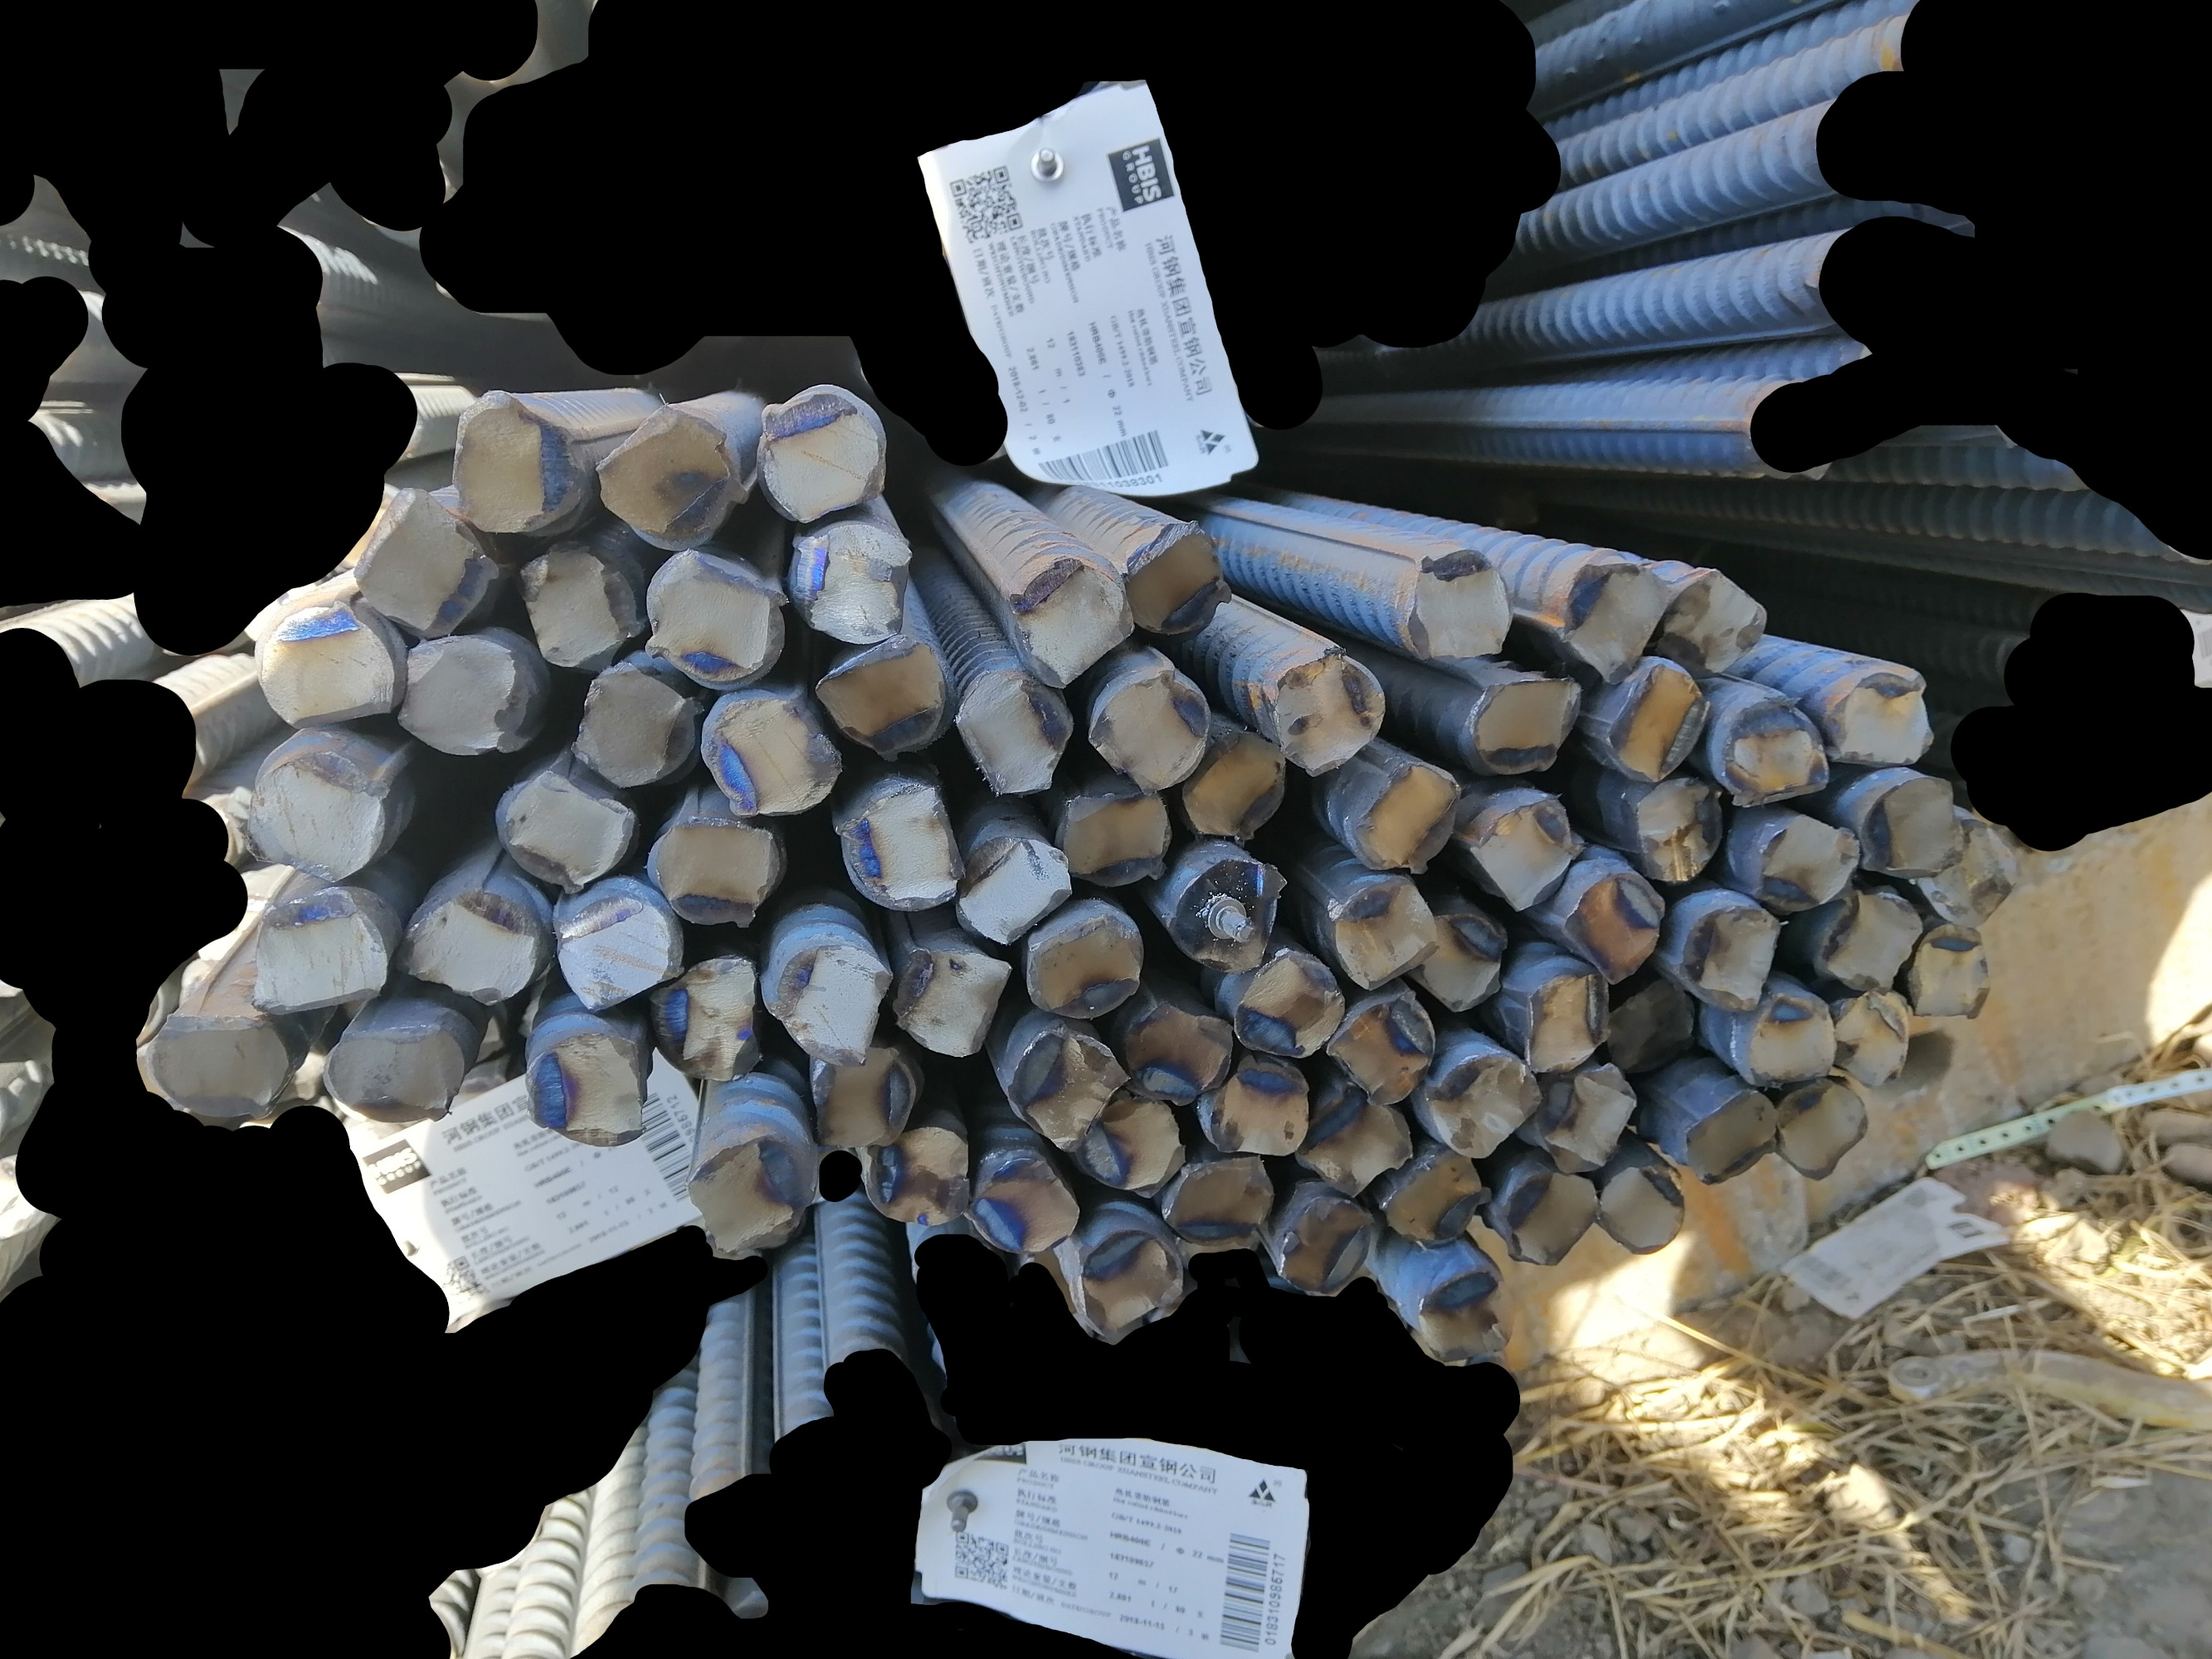rebar: (586, 401, 743, 556), (356, 483, 493, 638), (640, 549, 786, 692), (256, 603, 404, 734), (446, 389, 575, 538), (244, 753, 387, 885), (753, 382, 885, 523), (493, 769, 636, 897), (547, 878, 685, 1011), (390, 887, 540, 1007), (704, 690, 842, 821), (507, 544, 640, 676), (838, 781, 964, 918), (1008, 552, 1131, 692), (816, 636, 950, 762), (1161, 850, 1297, 974), (397, 638, 535, 760), (772, 938, 899, 1068), (253, 892, 390, 1012), (1271, 643, 1391, 781), (950, 666, 1075, 796), (645, 812, 779, 932), (572, 666, 699, 791), (786, 523, 915, 647), (652, 948, 765, 1087), (523, 1023, 648, 1147), (1469, 781, 1583, 915), (153, 1011, 291, 1121), (324, 1021, 467, 1126), (689, 1133, 811, 1255), (1557, 556, 1672, 685), (1117, 512, 1227, 647), (1654, 561, 1776, 681), (1344, 755, 1464, 875), (1096, 666, 1211, 791), (1598, 657, 1710, 786), (1428, 1042, 1546, 1162), (952, 829, 1074, 946), (1023, 911, 1150, 1023), (1119, 992, 1236, 1112), (1401, 540, 1515, 664), (1009, 1025, 1119, 1150), (1229, 946, 1347, 1060), (892, 950, 1018, 1056), (967, 1143, 1082, 1256), (1675, 901, 1790, 1014), (1328, 988, 1436, 1108), (1823, 660, 1942, 769), (1185, 721, 1288, 845), (1330, 870, 1433, 993), (1074, 1222, 1182, 1338), (1717, 694, 1835, 796), (1564, 864, 1666, 983), (1469, 671, 1583, 777), (1055, 791, 1173, 892), (1860, 774, 1966, 885), (1199, 1056, 1313, 1161), (1755, 803, 1860, 915), (1304, 1093, 1415, 1197), (1272, 1192, 1381, 1298), (1084, 1087, 1189, 1197), (1382, 1138, 1487, 1248), (1822, 884, 1921, 999), (1917, 814, 2015, 931), (1161, 1148, 1279, 1244), (863, 1119, 969, 1225), (807, 1044, 915, 1148), (1412, 904, 1510, 1016), (1604, 967, 1700, 1080), (1774, 1072, 1872, 1182), (1520, 958, 1609, 1079), (1903, 915, 2003, 1021), (1546, 1056, 1635, 1175), (1741, 986, 1839, 1093), (1680, 1082, 1778, 1187), (1419, 1263, 1518, 1364), (1633, 772, 1724, 882), (1508, 1168, 1600, 1272), (1830, 988, 1921, 1093), (1598, 1161, 1684, 1258)
